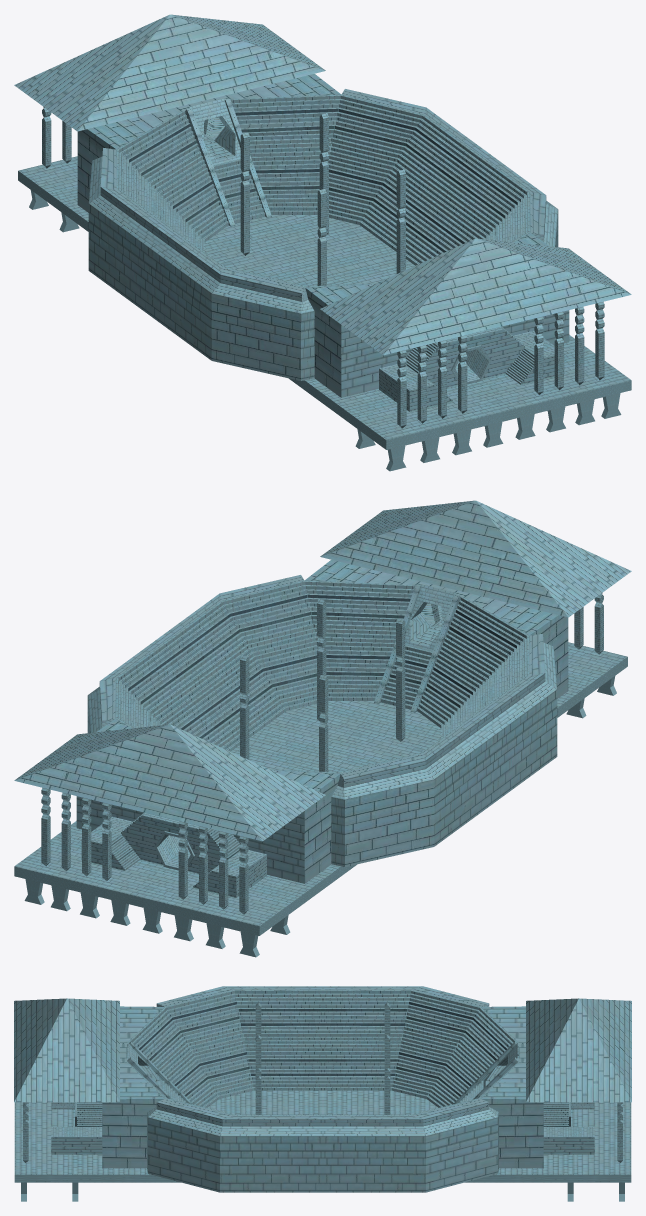
The model's file is SkayPFall.fbx.
3 views of the same model, one above another, from view 1: azimuth 30°, elevation 25°; view 2: azimuth 150°, elevation 25°; view 3: azimuth 270°, elevation 25° (orthographic). The views are drawn at different scales.
Visible parts, largest first — view 1: polySurface26 (×2), pPyramid1 (×2), pPlane1 (×2), pCube4 (×2), pCube3, polySurface16 (×2), polySurface15 (×2), polySurface14, polySurface2, polySurface5, polySurface3, polySurface6 (+4 smaller); view 2: polySurface26 (×2), pPyramid1 (×2), pPlane1 (×2), pCube4 (×2), pCube3, polySurface16 (×2), polySurface15 (×2), polySurface14, polySurface2, polySurface5, polySurface3, polySurface6 (+4 smaller); view 3: pPlane1 (×2), polySurface26 (×2), pPyramid1 (×2), pCube4 (×2), pCube3 (×2), polySurface15 (×2), polySurface2 (×2).
Boxes of the visible parts, x1,y1,x2,y2 form: polySurface26 (×2): (116, 94, 530, 287); pPyramid1 (×2): (14, 14, 631, 355); pPlane1 (×2): (77, 74, 569, 397); pCube4 (×2): (18, 156, 631, 449); pCube3: (379, 326, 564, 411); polySurface16 (×2): (240, 132, 326, 285); polySurface15 (×2): (319, 113, 405, 273); polySurface14: (451, 345, 491, 384); polySurface2: (595, 301, 604, 380); polySurface5: (534, 316, 543, 394); polySurface3: (575, 307, 584, 385); polySurface6: (458, 335, 467, 413); polySurface26 (×2): (115, 580, 529, 773); pPyramid1 (×2): (14, 500, 631, 841); pPlane1 (×2): (76, 560, 568, 883); pCube4 (×2): (14, 642, 627, 935); pCube3: (81, 812, 266, 897); polySurface16 (×2): (319, 618, 405, 771); polySurface15 (×2): (240, 599, 326, 759); polySurface14: (154, 831, 194, 870); polySurface2: (41, 787, 50, 866); polySurface5: (102, 802, 111, 880); polySurface3: (61, 793, 70, 871); polySurface6: (178, 821, 187, 899); pPlane1 (×2): (102, 986, 543, 1192); polySurface26 (×2): (127, 990, 518, 1115); pPyramid1 (×2): (14, 998, 631, 1102); pCube4 (×2): (14, 1077, 631, 1182); pCube3 (×2): (51, 1102, 594, 1154); polySurface15 (×2): (255, 1035, 390, 1114); polySurface2 (×2): (23, 1102, 622, 1162).
Size of the model in its own units: 489 by 250 by 902.
